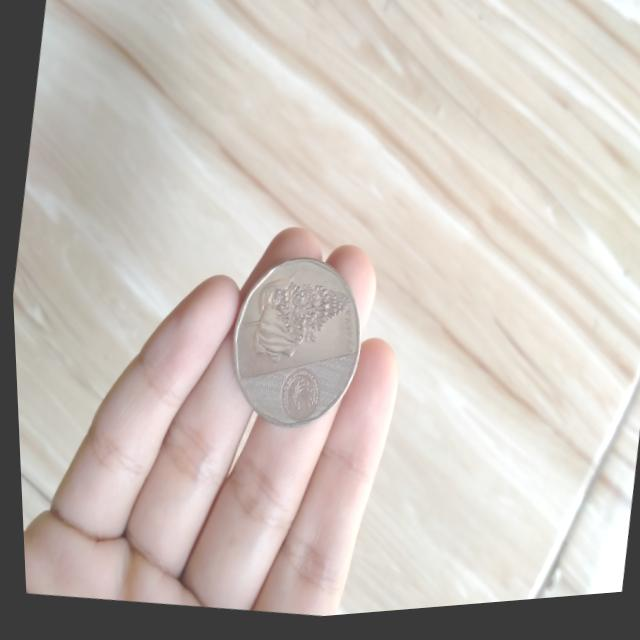10_New_Back: (227, 267, 363, 391)
